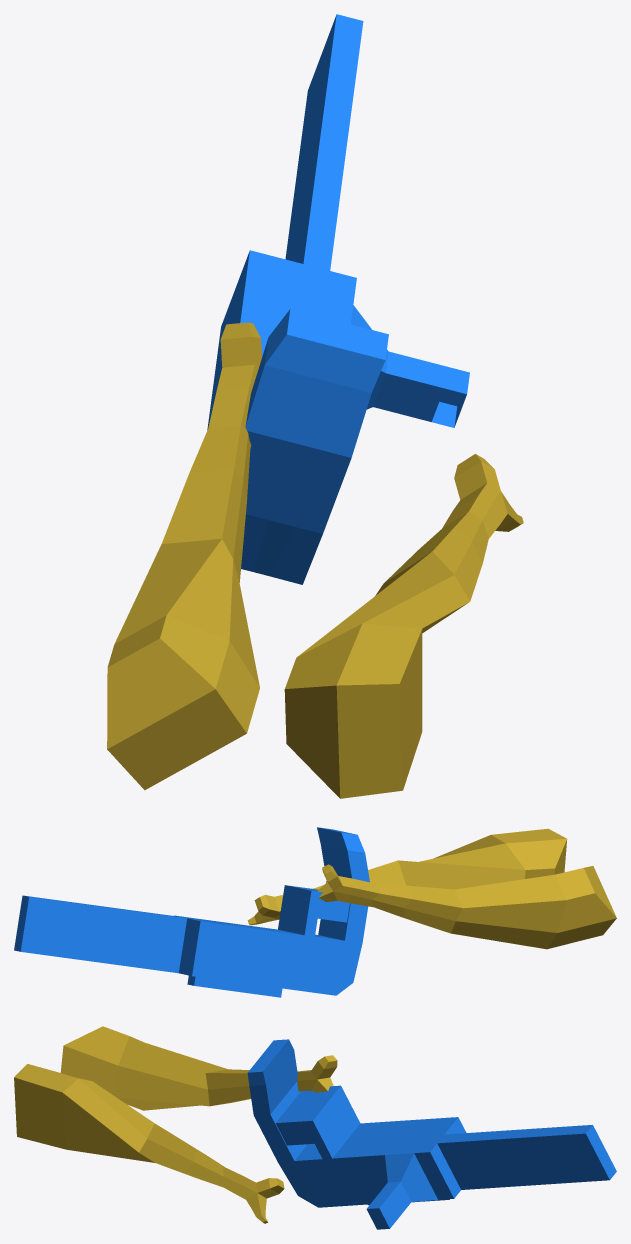
The model's file is arme_000096.obj.
3 renders of one model, top to bottom at view 1: azimuth 30°, elevation 25°; view 2: azimuth 150°, elevation 25°; view 3: azimuth 270°, elevation 25°, orthographic. The views are drawn at different scales.
Visible parts, largest first — view 1: Cube.048_Cube.024, Cube.046_Cube.010; view 2: Cube.046_Cube.010, Cube.048_Cube.024; view 3: Cube.046_Cube.010, Cube.048_Cube.024.
Part boxes in pixels (x1,y1,x2,y2): Cube.048_Cube.024: (107, 322, 523, 798); Cube.046_Cube.010: (207, 14, 469, 584); Cube.046_Cube.010: (14, 827, 369, 997); Cube.048_Cube.024: (247, 828, 616, 949); Cube.046_Cube.010: (247, 1039, 616, 1229); Cube.048_Cube.024: (14, 1026, 337, 1223).
Bounding box in the file's own units: 1652 × 664 × 2271.
